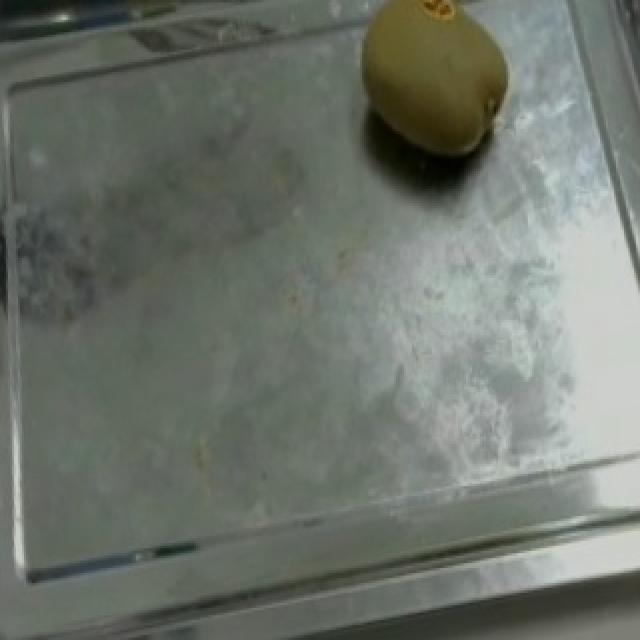Fruit: (328, 0, 538, 191)
